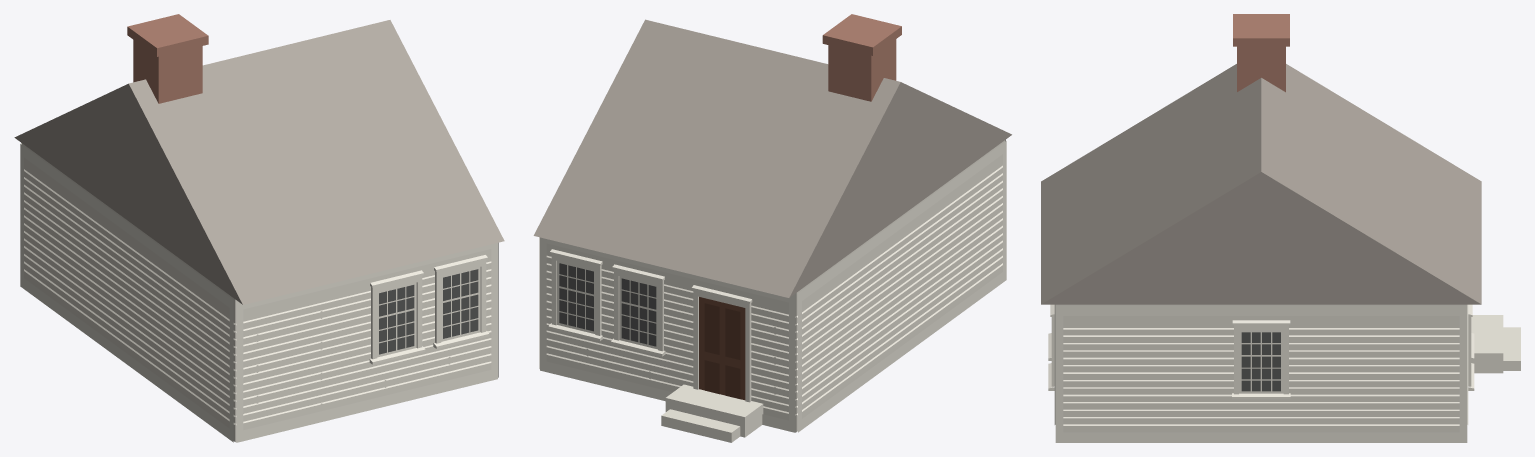
The model's file is recon_1835_north_d3_024__inferred_1835.glb.
3 views of the same model, side by side, from view 1: azimuth 30°, elevation 25°; view 2: azimuth 150°, elevation 25°; view 3: azimuth 270°, elevation 25° (orthographic). The views are drawn at different scales.
Visible parts, largest first — view 1: recon_1835_north_d3_024__inferred_1835; view 2: recon_1835_north_d3_024__inferred_1835; view 3: recon_1835_north_d3_024__inferred_1835.
Part boxes in pixels (x1,y1,x2,y2): recon_1835_north_d3_024__inferred_1835: (14,14,504,442); recon_1835_north_d3_024__inferred_1835: (533,14,1011,442); recon_1835_north_d3_024__inferred_1835: (1041,14,1520,442).
Bounding box in the file's own units: 5.14 × 5.89 × 8.22.
